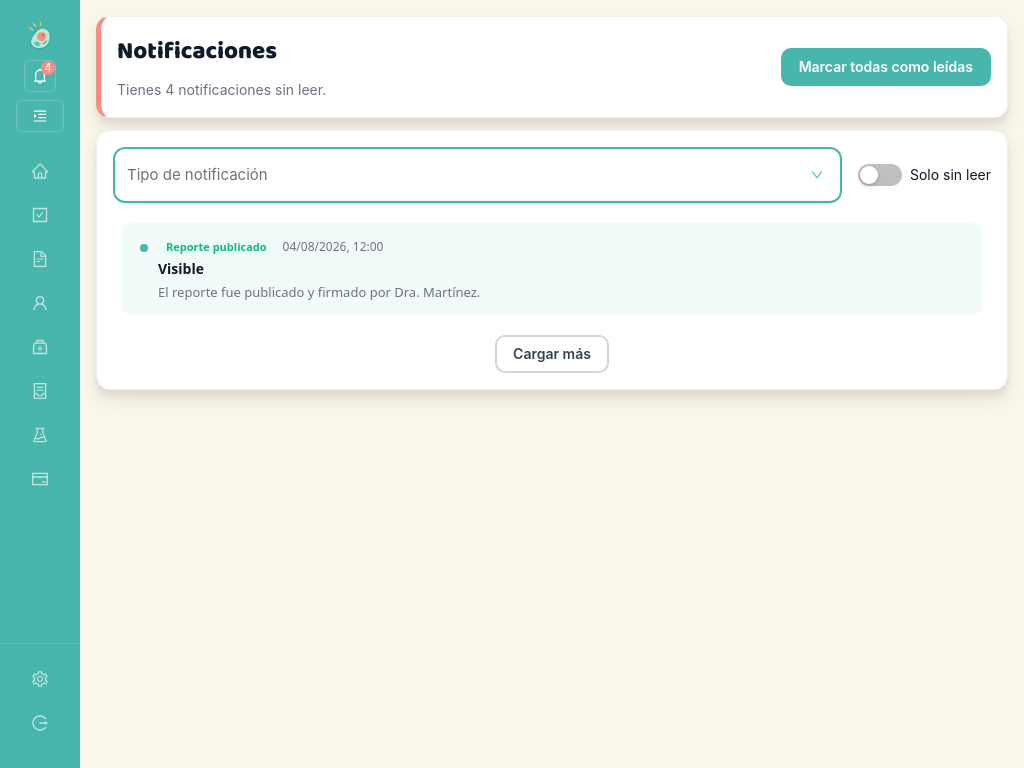
Test: cursor paging › keeps visible results and reports the failure when loading more fails
Expected: the text "Visible" is shown, [158,259,204,278]
Click the button "Cargar más": (552, 354) [495,335,609,373]
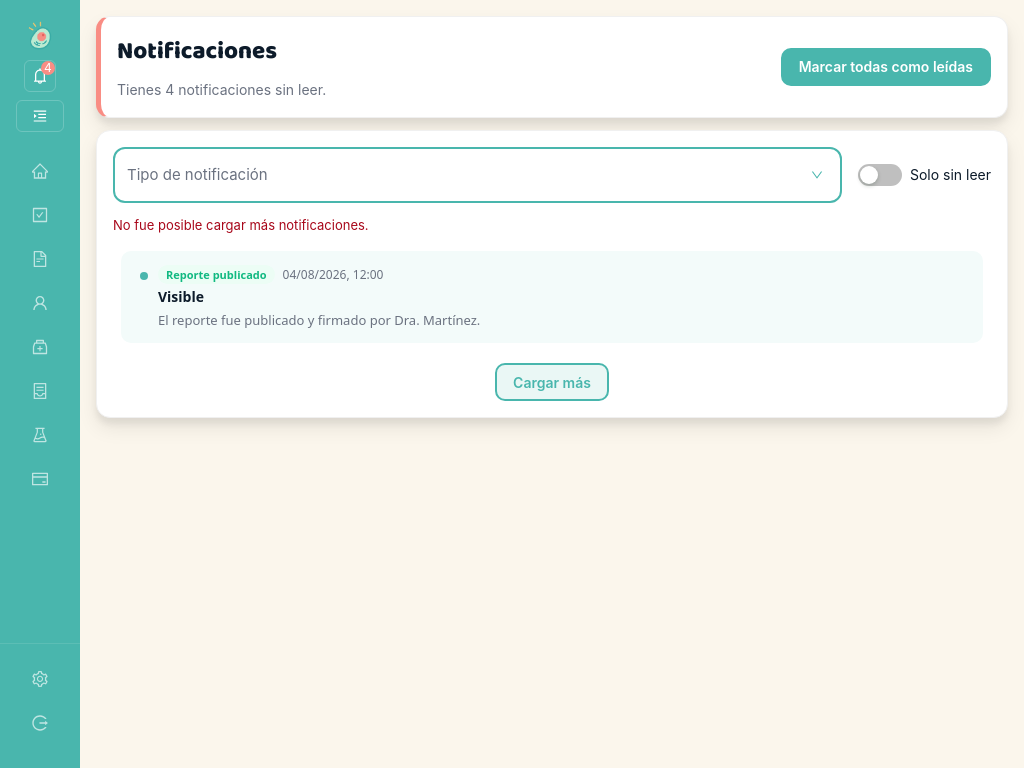
Expected: the text "Visible" is shown, [158,287,204,306]
Result: the message reads "No fue posible cargar más notificaciones." at [113,217,369,233]
